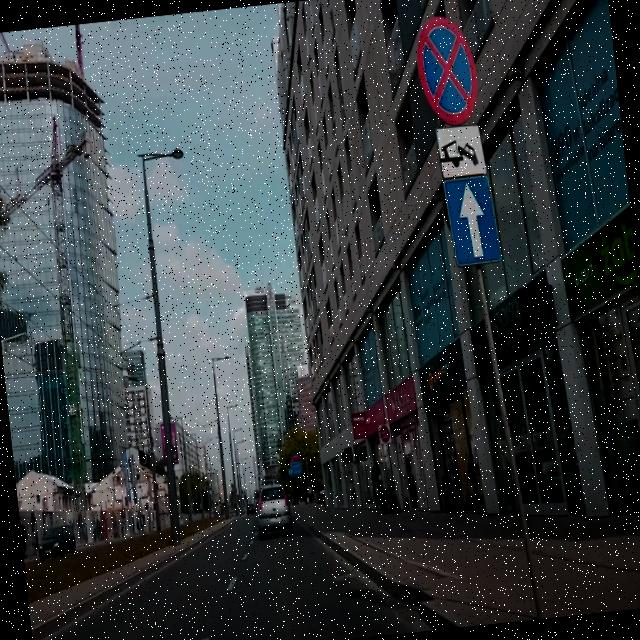Zakaz zatrzymywania sie: (410, 12, 480, 128)
